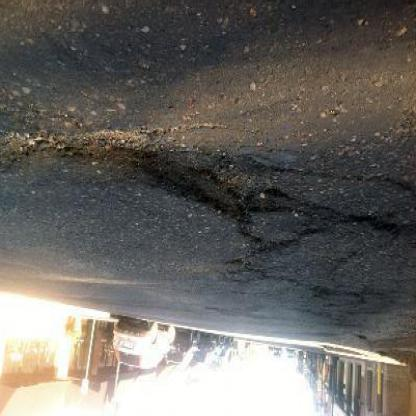pothole: (82, 129, 284, 229), (2, 130, 66, 165)
